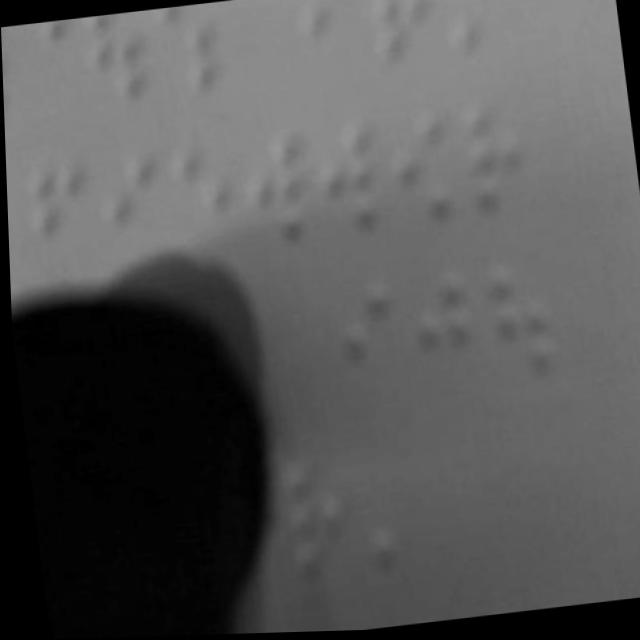braiile: (260, 445, 352, 589), (326, 276, 414, 426), (476, 259, 558, 413), (405, 268, 487, 420), (237, 127, 324, 269), (310, 113, 395, 254), (387, 105, 472, 243), (91, 141, 171, 287), (457, 96, 538, 236), (166, 130, 245, 267)
